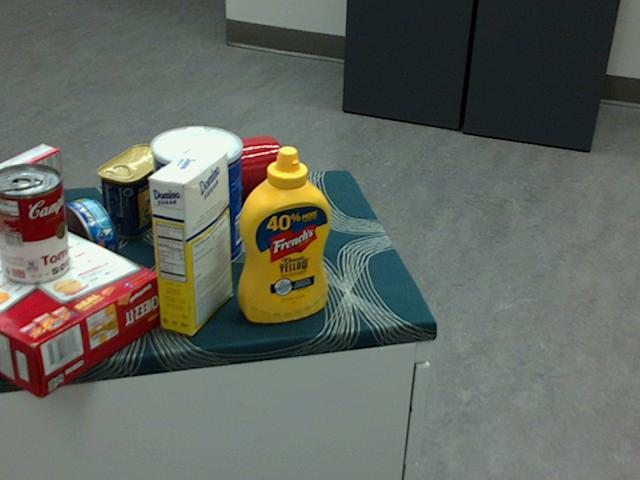cracker_box: (0, 208, 162, 397)
gelatin_box: (0, 143, 63, 225)
large_marker: (278, 152, 294, 246)
master_chef_can: (148, 125, 240, 271)
mug: (201, 134, 286, 208)
mustard_bottle: (237, 144, 331, 322)
potted_meat_can: (95, 142, 171, 239)
sugar_box: (146, 145, 232, 335)
tomato_soup_can: (0, 163, 69, 284)
tuna_fish_can: (50, 198, 116, 277)
